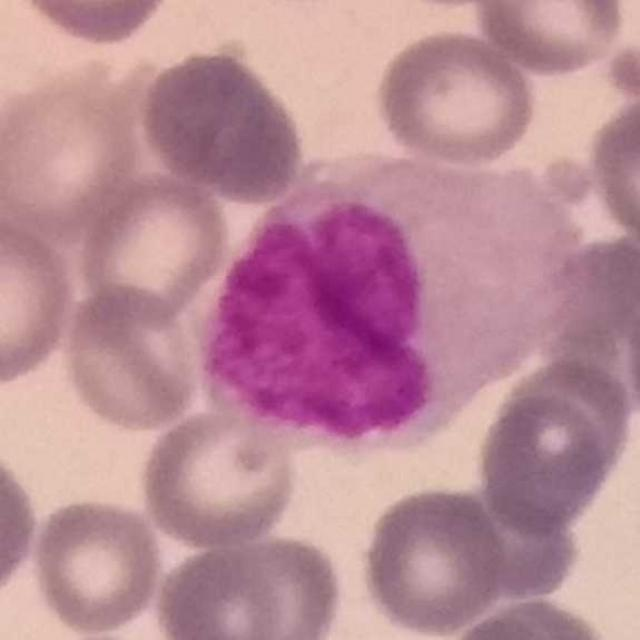mono: (203, 145, 585, 455)
